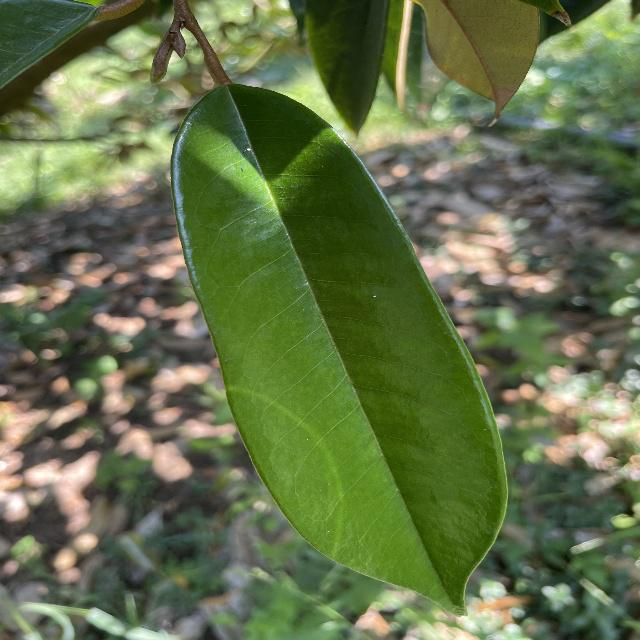No Disease: (165, 75, 522, 625)
